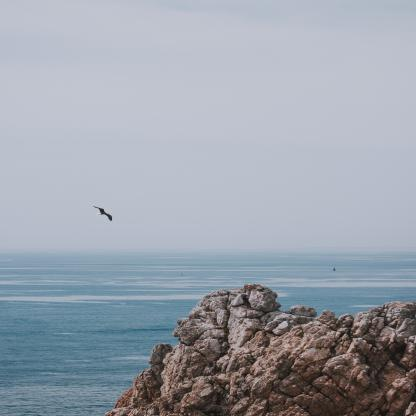bird: (92, 206, 113, 221)
